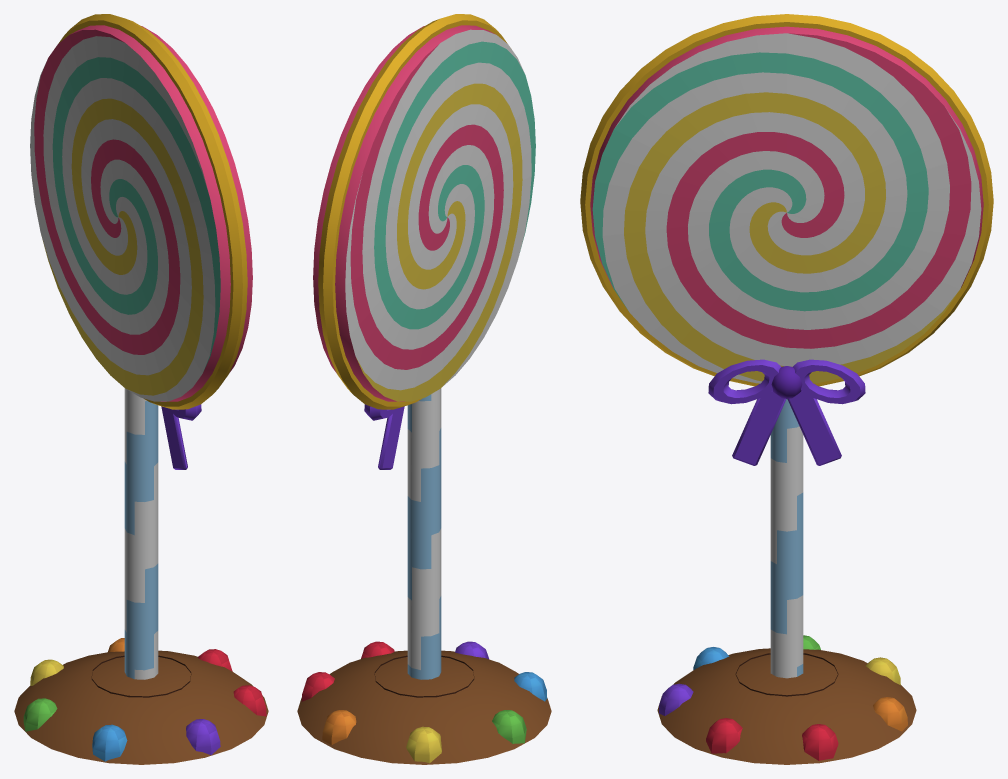
The model's file is giant_lollipop.glb.
3 renders of one model, left to right at view 1: azimuth 30°, elevation 25°; view 2: azimuth 150°, elevation 25°; view 3: azimuth 270°, elevation 25°, orthographic.
Parts seen in each view (by area): view 1: giant_lollipop; view 2: giant_lollipop; view 3: giant_lollipop.
Part boxes in pixels (box(x1,y1,x2,y2)): giant_lollipop: box(14, 14, 268, 764); giant_lollipop: box(297, 14, 551, 764); giant_lollipop: box(580, 14, 993, 764).
Bounding box in the file's own units: 4.8 × 14.23 × 7.66.
